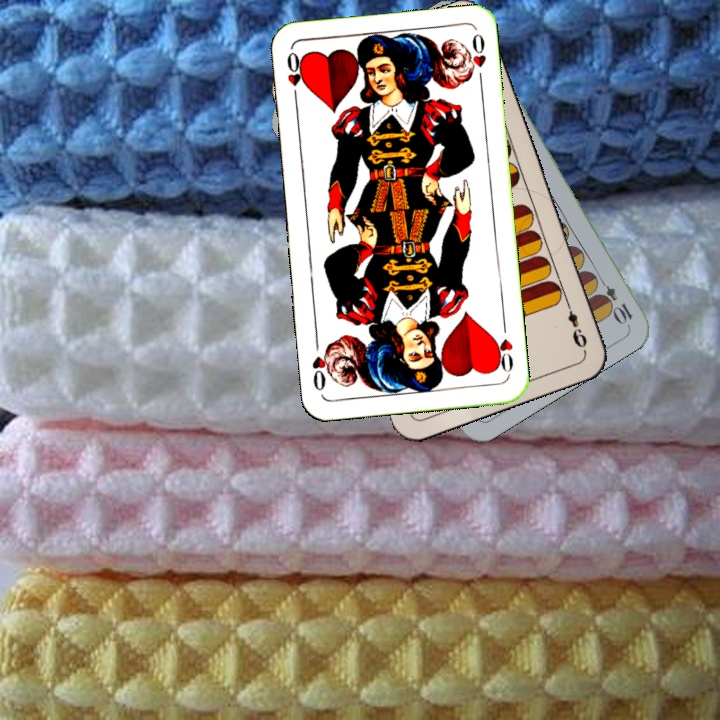E10: (592, 272, 635, 327)
E9: (561, 296, 590, 351)
HO: (490, 318, 516, 377), (282, 48, 307, 106)
